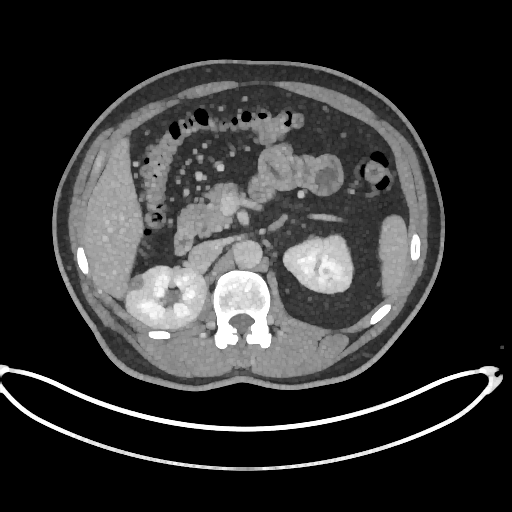Lesion: (128, 273, 146, 291)
